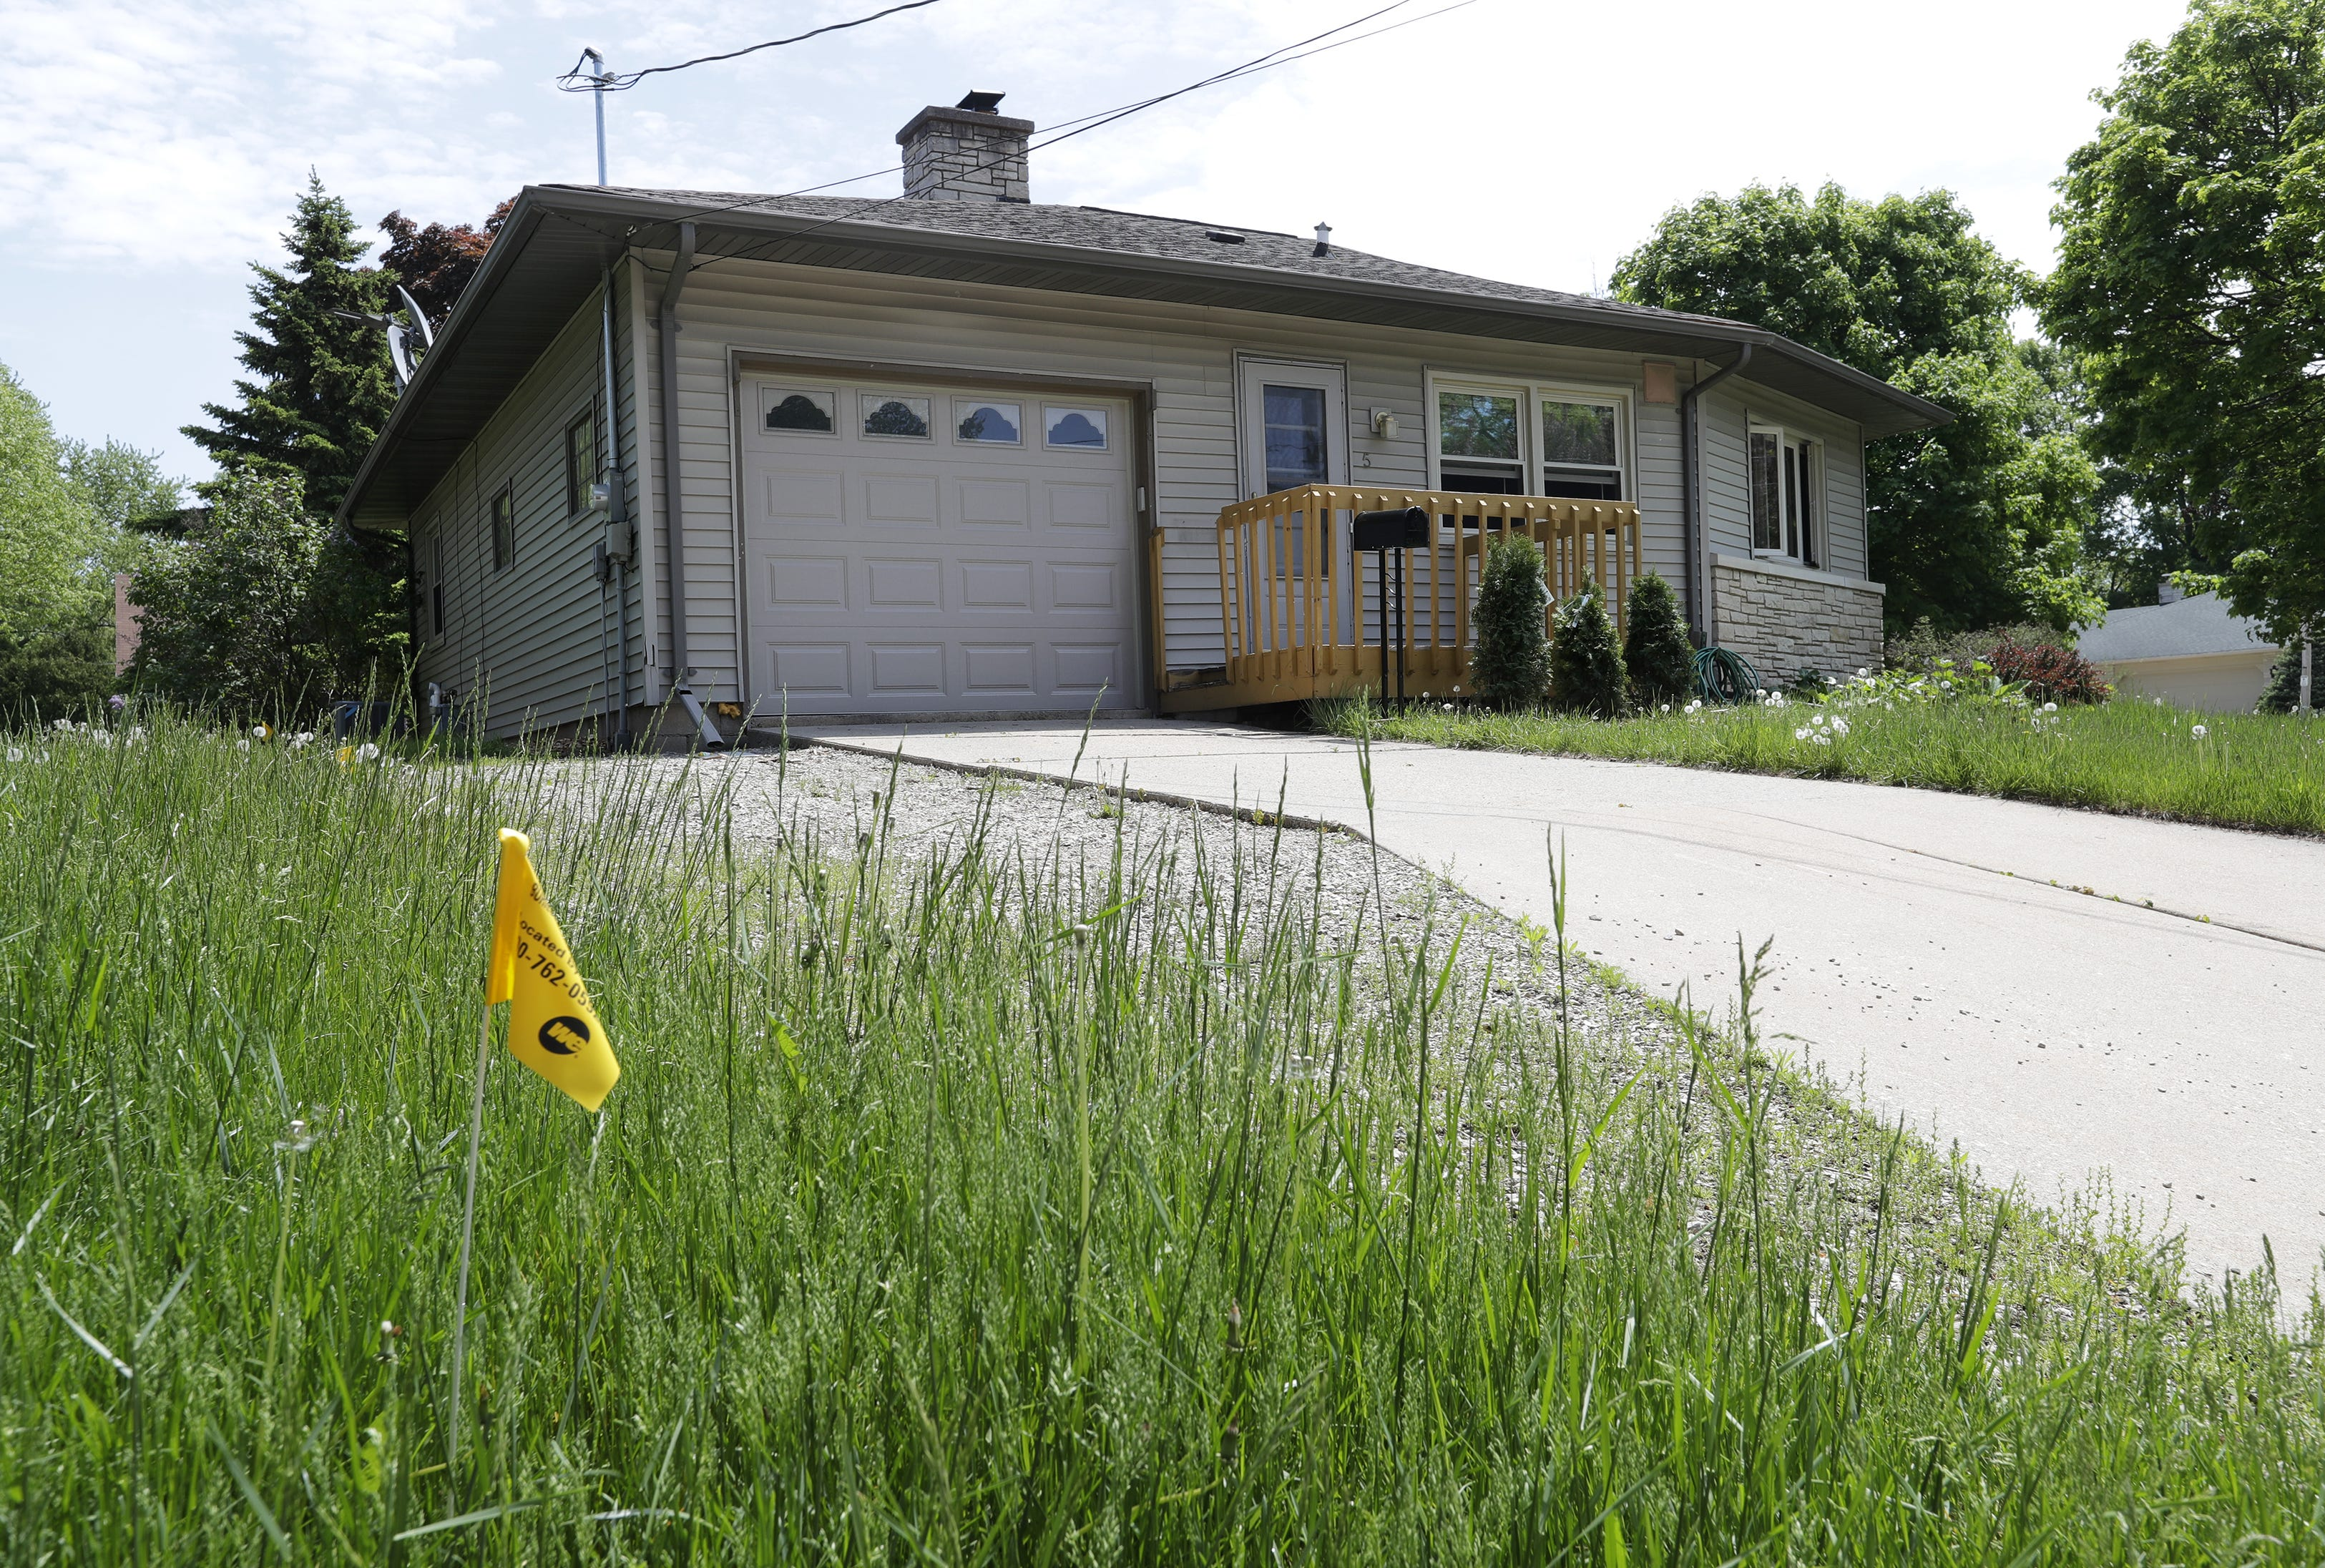grass: (26, 814, 1380, 1543)
